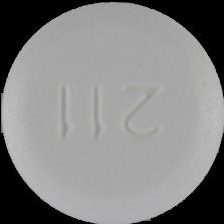69189-0211: (0, 0, 224, 224)
